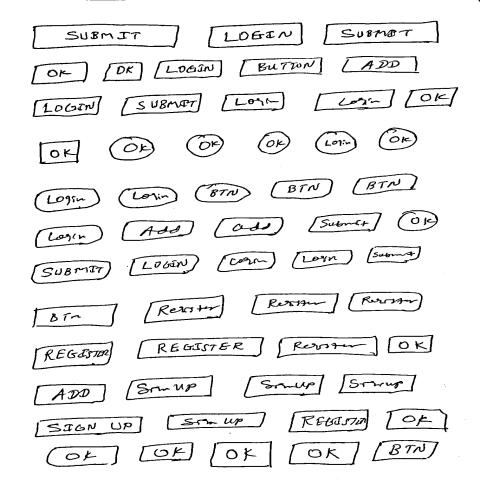Button: (31, 22, 180, 51), (322, 21, 440, 46), (138, 337, 266, 360), (206, 23, 305, 50), (144, 296, 226, 325), (32, 343, 114, 371), (35, 417, 144, 438), (276, 337, 379, 359), (126, 377, 214, 402), (33, 304, 119, 329), (288, 409, 370, 434), (121, 94, 203, 118), (251, 294, 340, 316), (32, 261, 113, 285), (244, 375, 325, 399), (314, 89, 396, 112), (167, 413, 267, 431), (210, 442, 274, 469), (290, 442, 361, 466), (239, 58, 324, 78), (339, 374, 419, 395), (35, 225, 104, 249), (35, 189, 101, 214), (129, 255, 200, 278), (121, 220, 195, 242), (47, 446, 120, 468), (34, 384, 107, 406), (349, 292, 424, 313), (33, 96, 104, 118), (309, 213, 383, 234), (215, 217, 285, 239), (372, 441, 440, 463), (352, 174, 419, 196), (153, 60, 225, 80), (270, 179, 334, 201), (31, 62, 89, 86), (387, 409, 450, 431), (221, 92, 286, 113), (118, 187, 179, 209), (342, 57, 420, 74), (292, 250, 354, 270), (218, 252, 276, 273), (195, 183, 252, 204), (109, 137, 156, 162), (405, 88, 459, 109), (139, 443, 194, 463), (39, 140, 81, 166), (316, 132, 358, 156), (367, 247, 422, 264), (398, 211, 440, 233), (379, 128, 418, 151), (187, 135, 225, 158), (388, 336, 434, 354), (103, 62, 144, 82), (257, 132, 291, 155)
